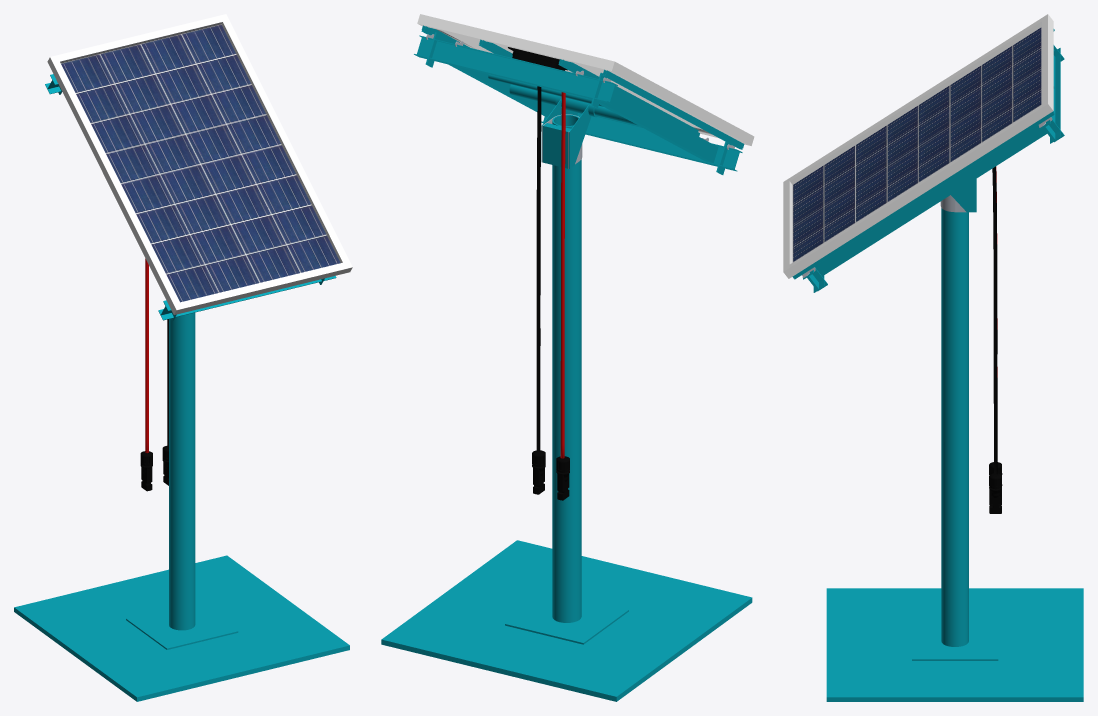
File: Solar_Panel_100w.fbx
3 renders of one model, left to right at view 1: azimuth 30°, elevation 25°; view 2: azimuth 150°, elevation 25°; view 3: azimuth 270°, elevation 25°, orthographic. The views are drawn at different scales.
Parts seen in each view (by area): view 1: a, Solar_Panel_100w, Structure, Cable1; view 2: Solar_Panel_100w, Structure, a, Rail, Cable, Cable1; view 3: Solar_Panel_100w, a, Structure, Cable, Rail, Connector3.
Part boxes in pixels (x1,y1,x2,y2): a: (47, 14, 352, 314); Solar_Panel_100w: (14, 312, 349, 701); Structure: (45, 74, 336, 321); Cable1: (145, 258, 148, 453); Solar_Panel_100w: (381, 114, 752, 701); Structure: (414, 32, 742, 174); a: (417, 14, 754, 145); Rail: (421, 25, 744, 149); Cable: (536, 86, 541, 450); Cable1: (560, 92, 565, 458); Solar_Panel_100w: (826, 195, 1083, 701); a: (783, 14, 1053, 278); Structure: (803, 45, 1064, 292); Cable: (992, 166, 997, 474); Rail: (792, 29, 1054, 279); Connector3: (989, 473, 1002, 513).
Bounding box in the file's own units: 1867 × 4717 × 2182.
